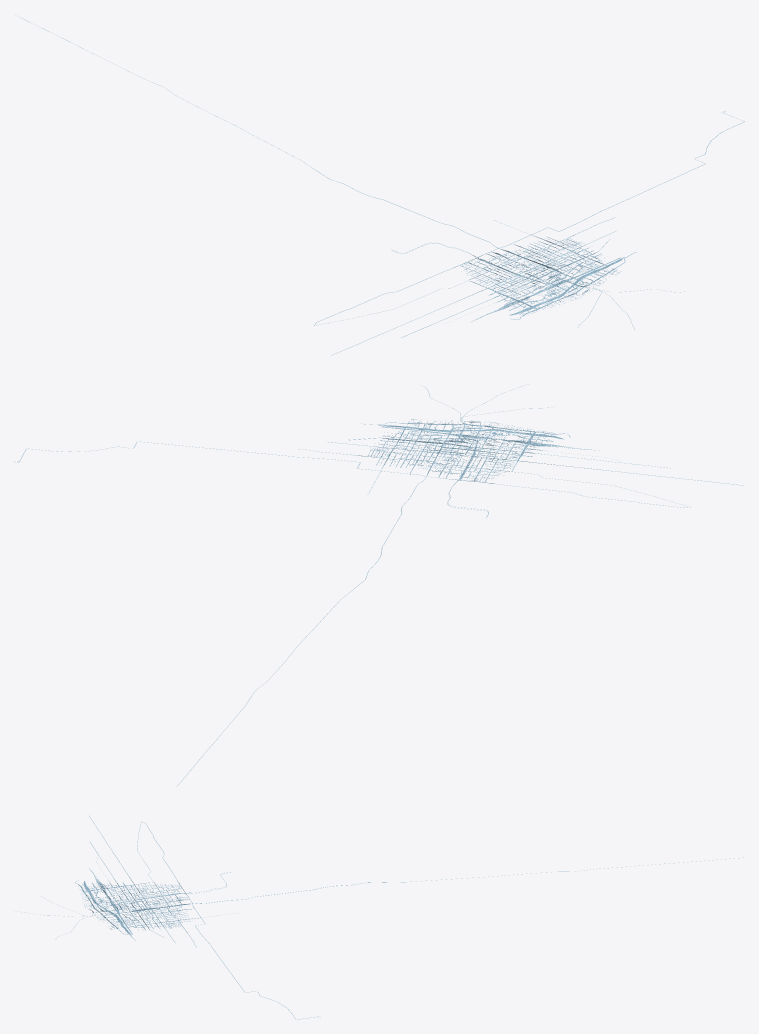
The model's file is roads.glb.
3 views of the same model, one above another, from view 1: azimuth 30°, elevation 25°; view 2: azimuth 150°, elevation 25°; view 3: azimuth 270°, elevation 25° (orthographic). The views are drawn at different scales.
Visible parts, largest first — view 1: roads; view 2: roads; view 3: roads.
Boxes of the visible parts, bbox=[...] form: roads: bbox=[20, 17, 744, 355]; roads: bbox=[14, 384, 743, 786]; roads: bbox=[19, 815, 743, 1019].
Size of the model in its own units: 11757 by 60.59 by 17726.
